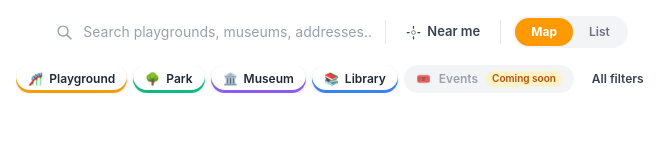
Scenario: search suggestions › match the Chinese title while reading English
This screenshot has width=660, height=160.
Type "金门" into the dropdown with placeholder "Search playgrounds, museums, addresses…".
click(228, 32); type("金门")  # box [83,22,373,42]
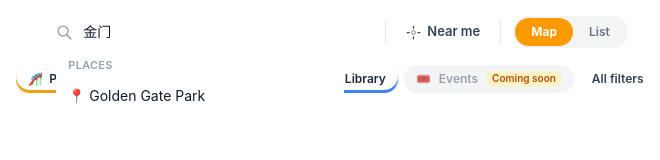
Expected: the option "📍 Golden Gate Park" is shown, [56,78,344,114]
